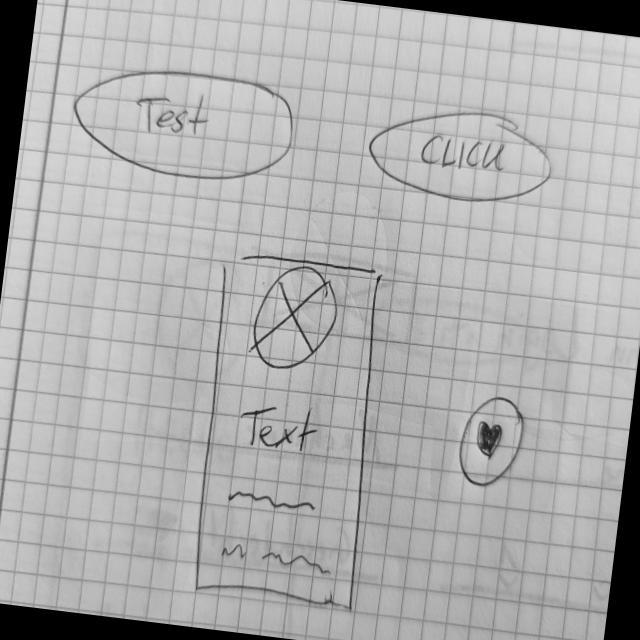button: (63, 56, 305, 195), (364, 97, 560, 214)
container: (179, 245, 400, 617)
icon-button: (453, 392, 531, 495)
image: (247, 262, 343, 380)
label: (235, 400, 324, 459)
text: (217, 537, 336, 583), (223, 483, 323, 521)
